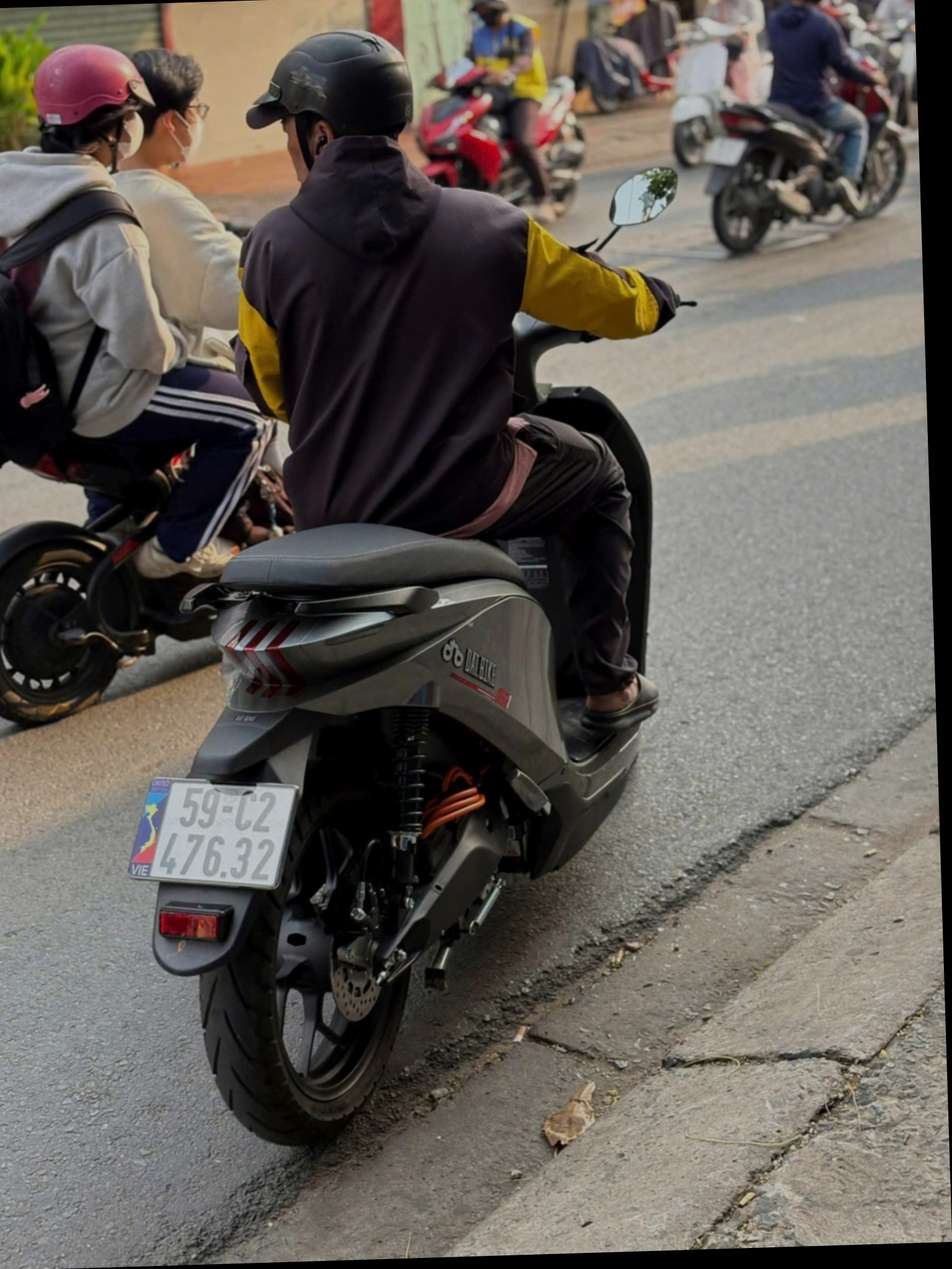Bien-so: (149, 773, 297, 896)
